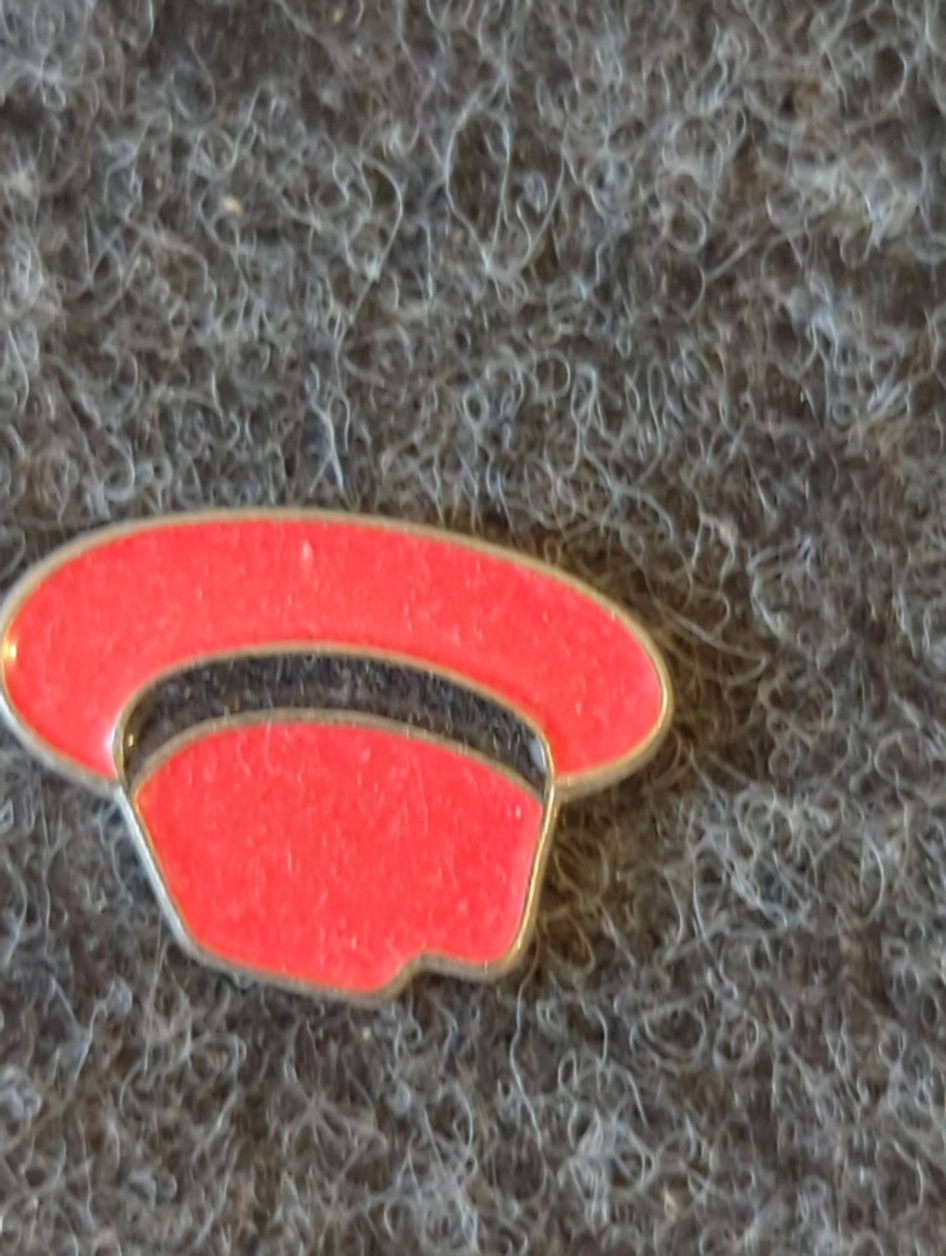Red-Hat: (0, 359, 806, 1140)
